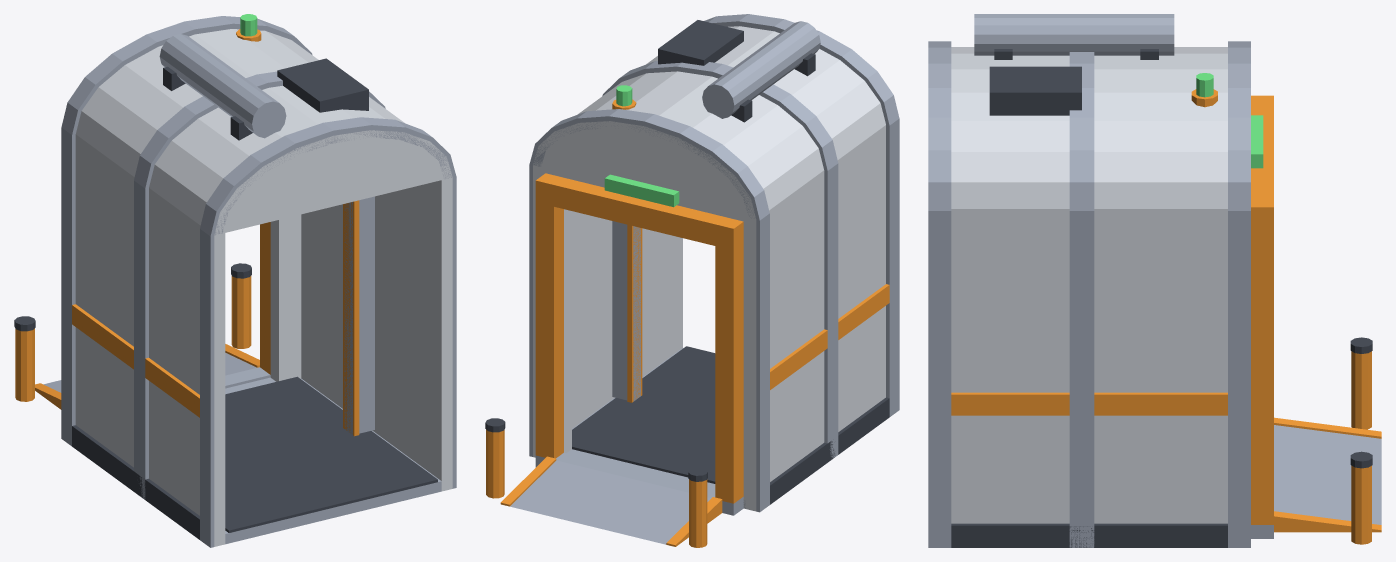
The model's file is airlock.obj.
The picture shows the model from 3 angles, left to right: view 1: azimuth 30°, elevation 25°; view 2: azimuth 150°, elevation 25°; view 3: azimuth 270°, elevation 25°; orthographic projection. The views are drawn at different scales.
Visible parts, largest first — view 1: airlock; view 2: airlock; view 3: airlock.
Boxes of the visible parts, x1=… form: airlock: x1=14, y1=14, x2=456, y2=547; airlock: x1=485, y1=14, x2=899, y2=547; airlock: x1=928, y1=14, x2=1381, y2=547.
Bounding box in the file's own units: 2 × 3.19 × 2.95.
